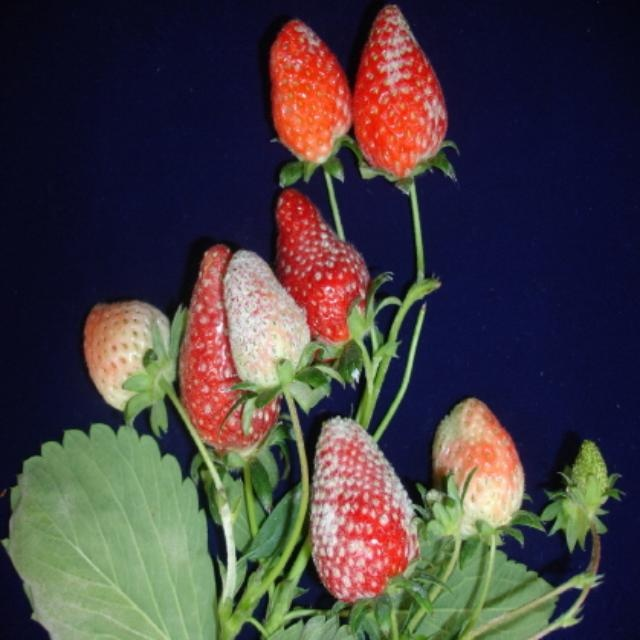Powdery Mildew Fruit: (177, 246, 284, 455), (308, 414, 421, 604), (351, 3, 448, 182), (274, 187, 375, 350), (221, 249, 313, 394), (268, 18, 351, 164)
